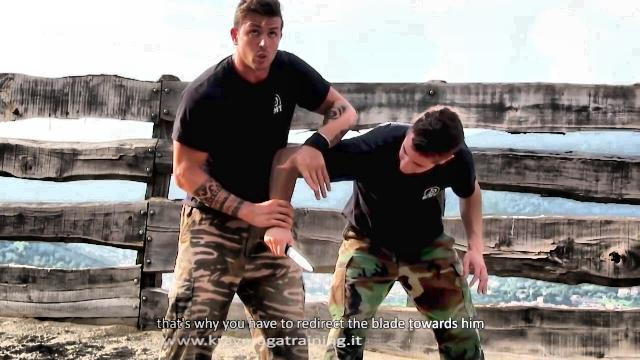knife: (262, 230, 316, 274)
